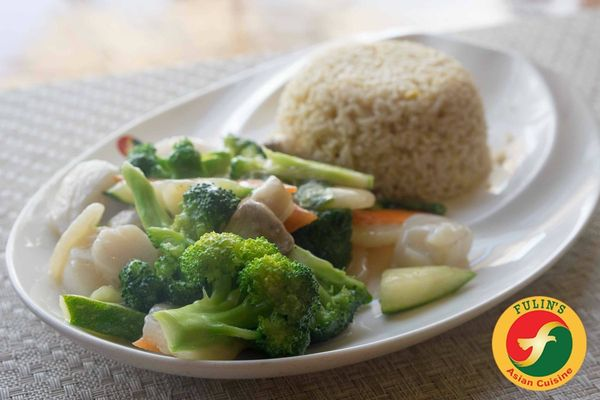curry: (111, 166, 374, 361), (152, 232, 370, 362), (61, 293, 146, 342)
sushi: (5, 17, 597, 389), (4, 111, 521, 383)
